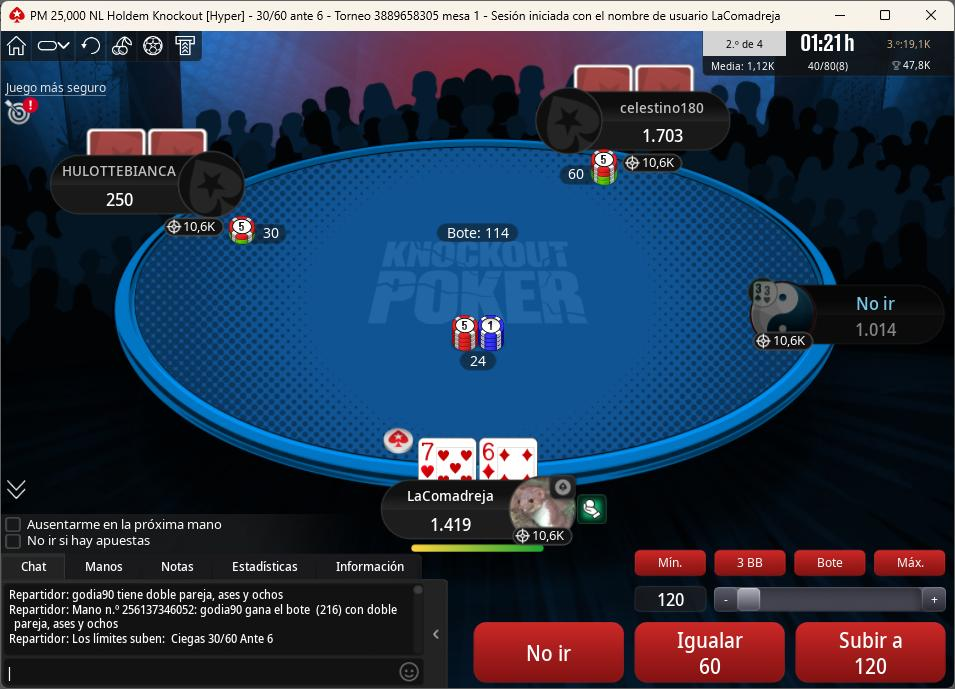ButtonCall: (628, 614, 784, 684)
ButtonFold: (472, 620, 631, 685)
ButtonMaxRaise: (871, 543, 950, 580)
ButtonMinRaise: (633, 547, 711, 580)
ButtonPotRaise: (792, 543, 872, 584)
ButtonRaise: (792, 617, 948, 684)
Dealer: (379, 421, 418, 457)
HiddenCards: (83, 132, 212, 160), (575, 67, 701, 95)
Player: (748, 282, 951, 351), (52, 151, 250, 215), (544, 89, 733, 155)
PlayerBet: (556, 145, 625, 200), (229, 216, 294, 247)
PlayerChips: (851, 322, 908, 342), (98, 191, 140, 211)
Pot: (434, 223, 521, 244)
PrincipalCards: (413, 436, 543, 484)
PrincipalCards1: (415, 436, 478, 482)
PrincipalCards2: (480, 436, 542, 482)
PrincipalPlayer: (384, 475, 587, 552)
PrincipalPlayerChips: (421, 516, 483, 537)
SmallBigBlind: (247, 3, 333, 29)
TablePot: (441, 312, 532, 379)
